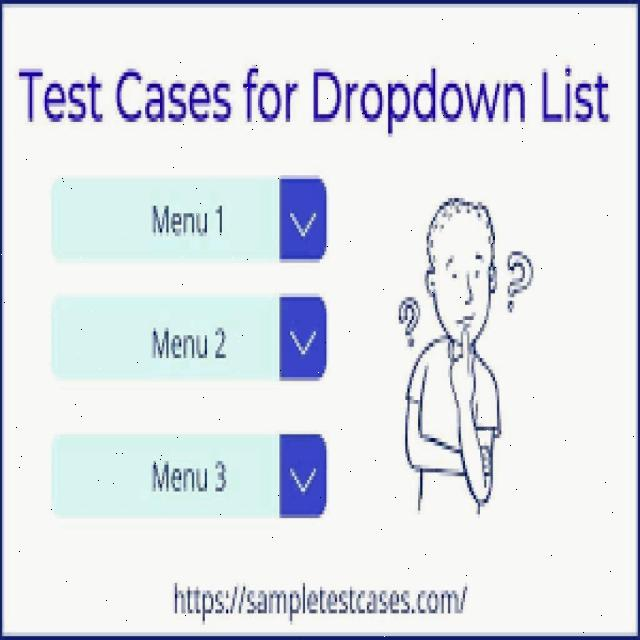dropdownMenu: (54, 434, 326, 519), (54, 296, 326, 378), (51, 178, 326, 259)
